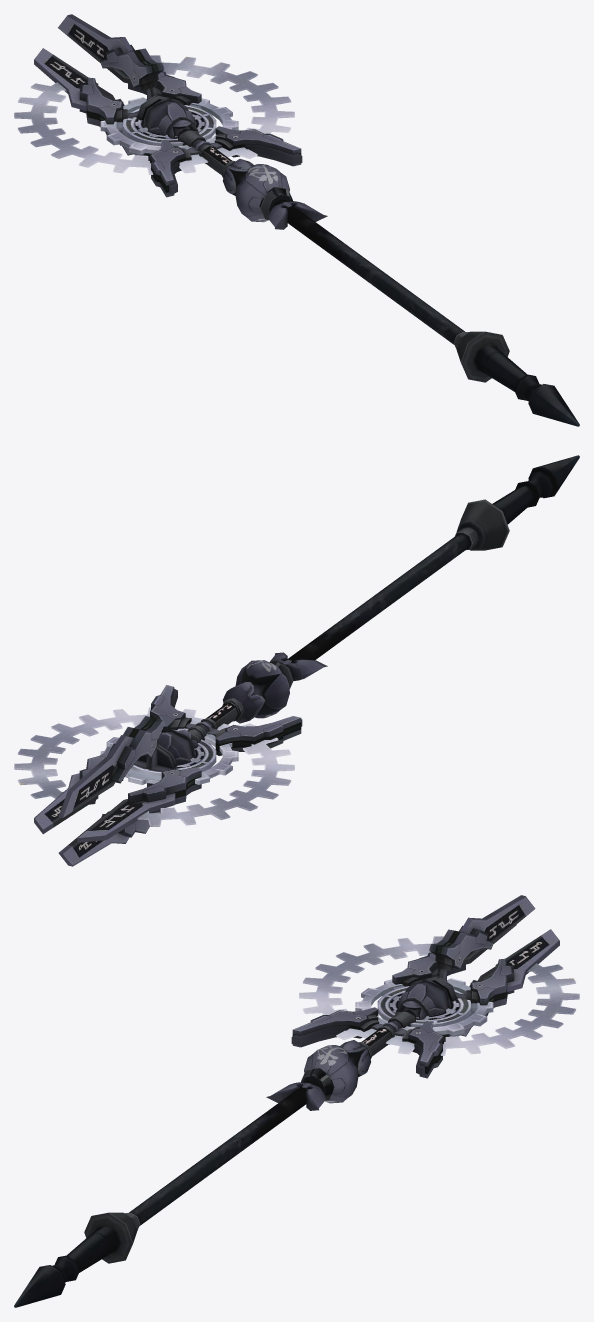
The model's file is wand_ooparts_wand_ooparts_wand_mumei_s.glb.
3 renders of one model, top to bottom at view 1: azimuth 30°, elevation 25°; view 2: azimuth 150°, elevation 25°; view 3: azimuth 330°, elevation 25°, orthographic.
Bounding box in the file's own units: 0.71 × 0.3014 × 2.62.
Materials: 1 (1 with a texture image).
